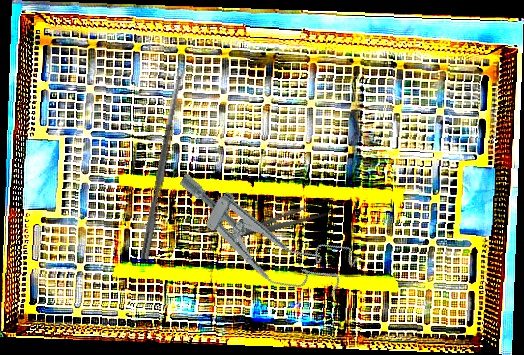Dressing Forceps: (223, 194, 340, 249)
Speculum: (159, 159, 361, 315)
Surgical Spoon: (140, 66, 187, 261)
